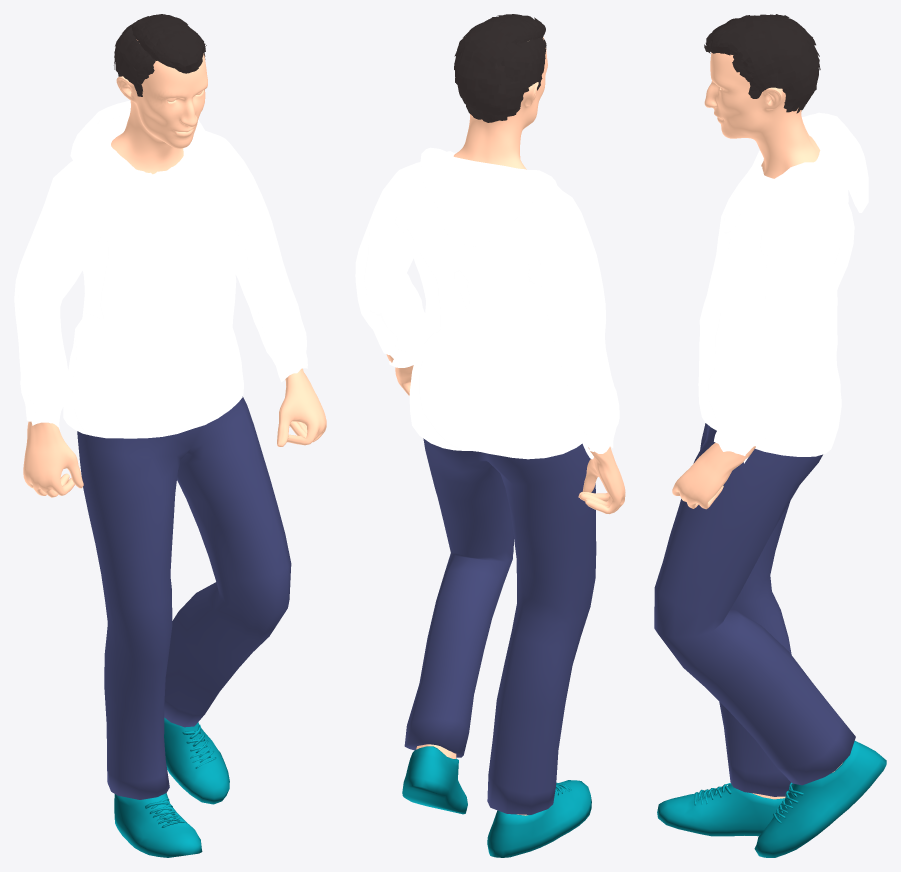
Rendered from Man_09_Walking-transformed.glb.
3 views of the same model, side by side, from view 1: azimuth 30°, elevation 25°; view 2: azimuth 150°, elevation 25°; view 3: azimuth 270°, elevation 25° (orthographic). The views are drawn at different scales.
Visible parts, largest first — view 1: Top.002, Bottoms.002, Body.002, Shoes.002, Hair.002; view 2: Top.002, Bottoms.002, Hair.002, Shoes.002, Body.002; view 3: Top.002, Bottoms.002, Shoes.002, Body.002, Hair.002.
Boxes of the visible parts, <box> form: Top.002: <box>14,100,307,438</box>; Bottoms.002: <box>77,396,291,799</box>; Body.002: <box>23,39,326,497</box>; Shoes.002: <box>114,717,229,857</box>; Hair.002: <box>114,14,206,96</box>; Top.002: <box>355,147,619,459</box>; Bottoms.002: <box>404,438,596,814</box>; Hair.002: <box>454,14,546,122</box>; Shoes.002: <box>402,746,591,857</box>; Body.002: <box>386,37,625,815</box>; Top.002: <box>698,112,868,463</box>; Bottoms.002: <box>654,423,855,796</box>; Shoes.002: <box>657,741,886,857</box>; Body.002: <box>672,52,842,799</box>; Hair.002: <box>704,14,820,113</box>.
Bounding box in the file's own units: 0.605 × 1.79 × 0.4589.
